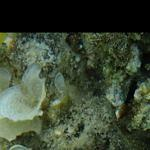dead: (1, 33, 147, 145)
